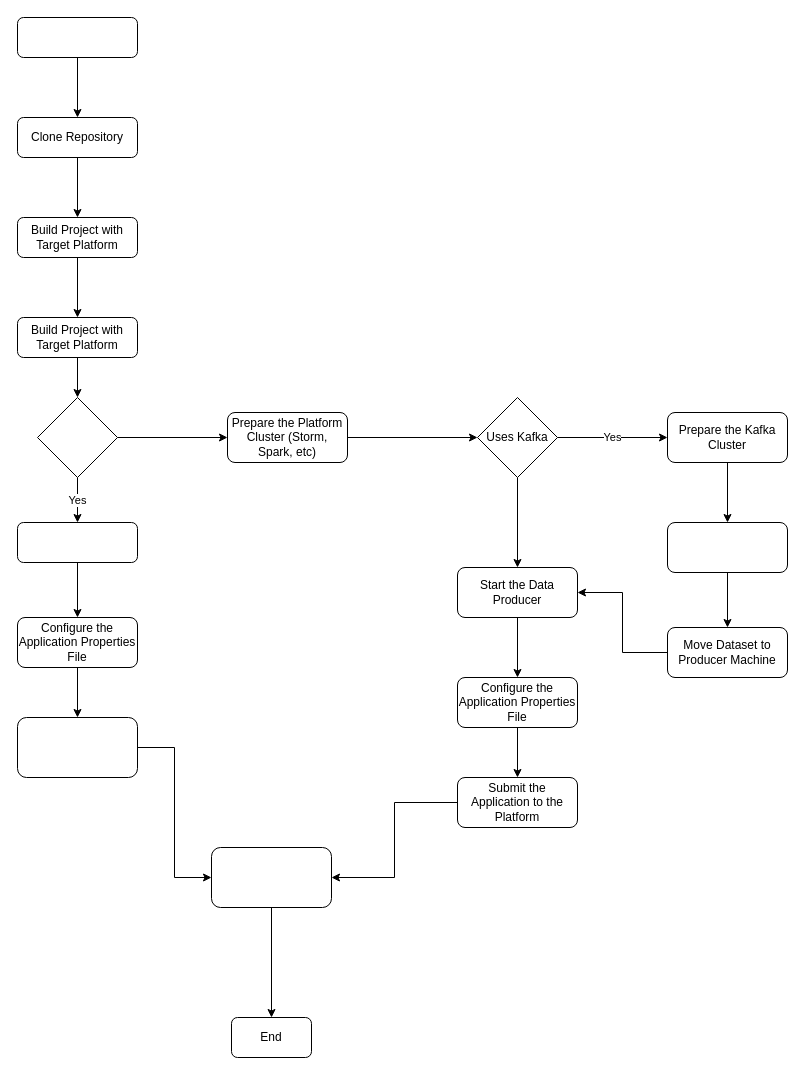
Image size: 805x1075. Some labels were removed from this diagram. Each missing label, with the box of its shape:
Execute the Application Locally with the Properties File: (16, 716, 138, 778)
Install Dependencies: (16, 16, 138, 58)
Is Local: (36, 396, 118, 478)
Prepare the Data Producer Machine: (666, 522, 788, 572)
Start the Local Data Producer: (16, 522, 138, 562)
Wait for the Application to Finish: (210, 846, 332, 908)
